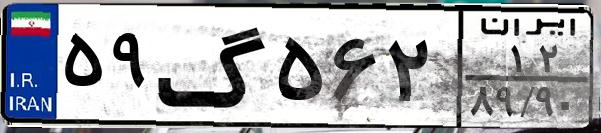0: (560, 70, 590, 125)
1: (508, 27, 537, 80)
2: (385, 28, 445, 110), (537, 27, 568, 80)
5: (270, 28, 330, 110), (57, 26, 110, 100)
6: (330, 28, 385, 110)
8: (470, 70, 495, 125)
9: (110, 28, 156, 98), (495, 70, 520, 125), (535, 70, 560, 125)
گ: (156, 12, 270, 120)
